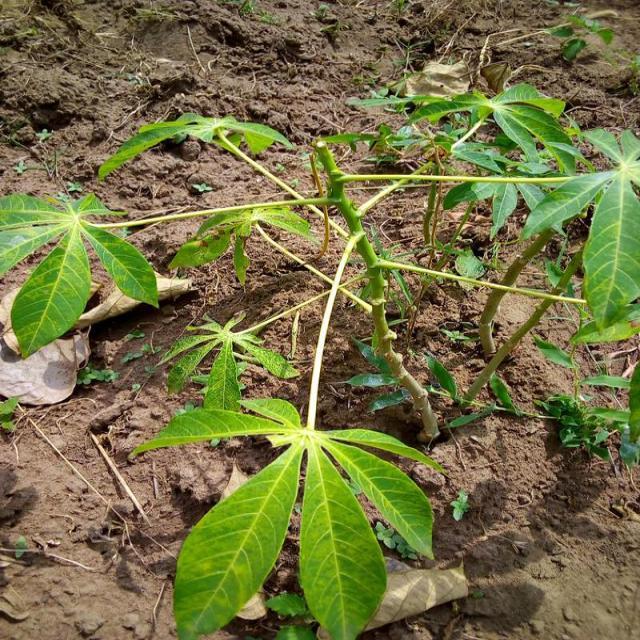cassava leaf: (0, 189, 159, 359), (172, 434, 304, 638), (298, 433, 387, 638), (581, 170, 638, 332)
